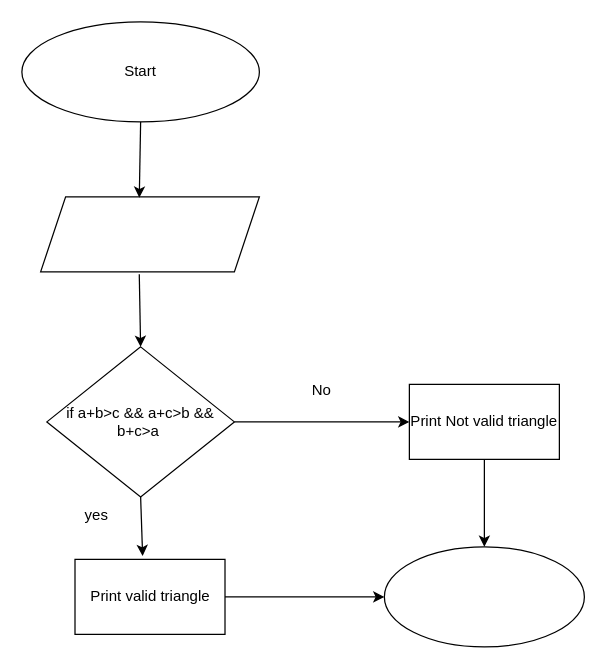
This 606x669 diagram has some shape labels left out. Each missing label, with the centre of its shape:
End: point (483, 596)
Input 3 sides :a,b,c: point (149, 234)
